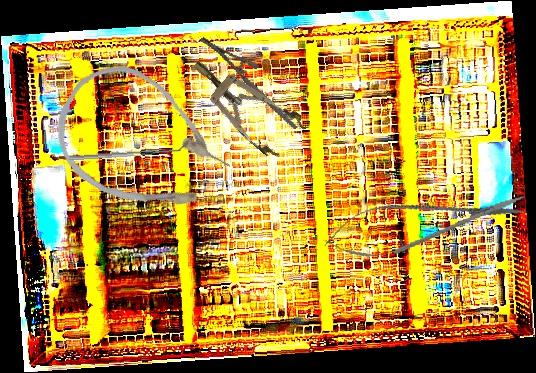Cannula: (36, 47, 247, 242)
Micro Scissor: (318, 177, 534, 269)
Needle Holder: (198, 17, 299, 150)
Spatula Surgical: (68, 143, 185, 161)
Speculum: (179, 42, 311, 165)
